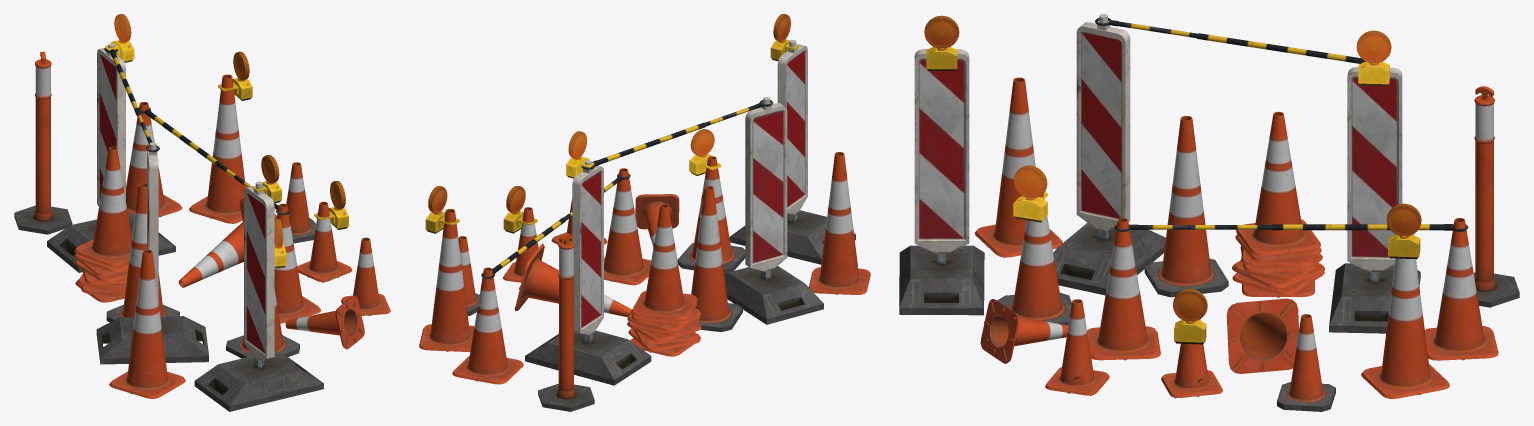
The model's file is traffic_cones.glb.
3 renders of one model, left to right at view 1: azimuth 30°, elevation 25°; view 2: azimuth 150°, elevation 25°; view 3: azimuth 270°, elevation 25°, orthographic. The views are drawn at different scales.
Parts seen in each view (by area): view 1: Vertical_Panel_1.002, Vertical_Panel_1.001, Vertical_Panel_1.003, Traffic_Cone_3_2.003, Traffic_Cone_3_2.001, Bollard_1.001, Traffic_Cone_2_2.011, Traffic_Cone_2_2.002, Traffic_Cone_3_1.001, Traffic_Cone_2_2.003, Traffic_Cone_1_2.002, Traffic_Cone_1_2.004 (+11 smaller); view 2: Vertical_Panel_1.003, Vertical_Panel_1.001, Vertical_Panel_1.002, Traffic_Cone_3_2.003, Traffic_Cone_3_2.001, Traffic_Cone_3_1.001, Bollard_1.001, Traffic_Cone_2_2.011, Traffic_Cone_2_2.003, Traffic_Cone_2_2.002, Traffic_Cone_2_2.012, Traffic_Cone_2_1.001 (+12 smaller); view 3: Vertical_Panel_1.002, Vertical_Panel_1.003, Vertical_Panel_1.001, Traffic_Cone_3_1.001, Traffic_Cone_3_2.001, Traffic_Cone_2_2.002, Traffic_Cone_2_2.003, Traffic_Cone_2_2.011, Traffic_Cone_2_2.012, Bollard_1.001, Traffic_Cone_3_2.003, Traffic_Cone_2_1.001 (+17 smaller).
Boxes of the visible parts, x1,y1,x2,y2 form: Vertical_Panel_1.002: (194, 181, 323, 411); Vertical_Panel_1.001: (47, 43, 175, 272); Vertical_Panel_1.003: (96, 142, 208, 364); Traffic_Cone_3_2.003: (109, 249, 185, 398); Traffic_Cone_3_2.001: (189, 74, 245, 223); Bollard_1.001: (14, 51, 72, 234); Traffic_Cone_2_2.011: (74, 146, 131, 267); Traffic_Cone_2_2.002: (274, 203, 320, 323); Traffic_Cone_3_1.001: (106, 183, 179, 321); Traffic_Cone_2_2.003: (126, 102, 182, 217); Traffic_Cone_1_2.002: (285, 295, 364, 349); Traffic_Cone_1_2.004: (297, 201, 352, 282); Vertical_Panel_1.003: (724, 97, 823, 324); Vertical_Panel_1.001: (525, 160, 651, 385); Vertical_Panel_1.002: (729, 39, 855, 264); Traffic_Cone_3_2.003: (809, 152, 870, 294); Traffic_Cone_3_2.001: (419, 209, 474, 351); Traffic_Cone_3_1.001: (691, 186, 742, 332); Bollard_1.001: (538, 233, 594, 411); Traffic_Cone_2_2.011: (631, 204, 697, 319); Traffic_Cone_2_2.003: (452, 267, 523, 384); Traffic_Cone_2_2.002: (604, 168, 651, 285); Traffic_Cone_2_2.012: (514, 243, 631, 317); Traffic_Cone_2_1.001: (677, 156, 745, 273); Vertical_Panel_1.002: (899, 49, 984, 315); Vertical_Panel_1.003: (1053, 14, 1165, 295); Vertical_Panel_1.001: (1329, 67, 1420, 333); Traffic_Cone_3_1.001: (1144, 116, 1228, 297); Traffic_Cone_3_2.001: (1361, 258, 1449, 398); Traffic_Cone_2_2.002: (1087, 218, 1160, 360); Traffic_Cone_2_2.003: (1425, 218, 1498, 360); Traffic_Cone_2_2.011: (1236, 111, 1320, 255); Traffic_Cone_2_2.012: (1226, 298, 1298, 373); Bollard_1.001: (1473, 86, 1519, 307); Traffic_Cone_3_2.003: (975, 77, 1062, 257); Traffic_Cone_2_1.001: (997, 194, 1071, 325).
Bounding box in the file's own units: 2.38 × 1.65 × 3.29.
2 materials, 2 textured.
